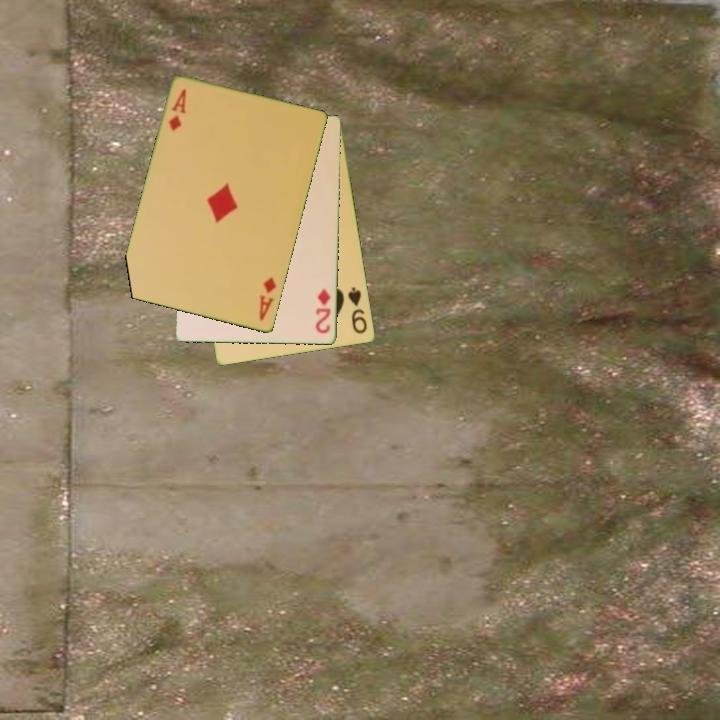2d: (312, 286, 334, 336)
9s: (345, 284, 370, 337)
Ad: (255, 273, 279, 324), (165, 86, 189, 134)
